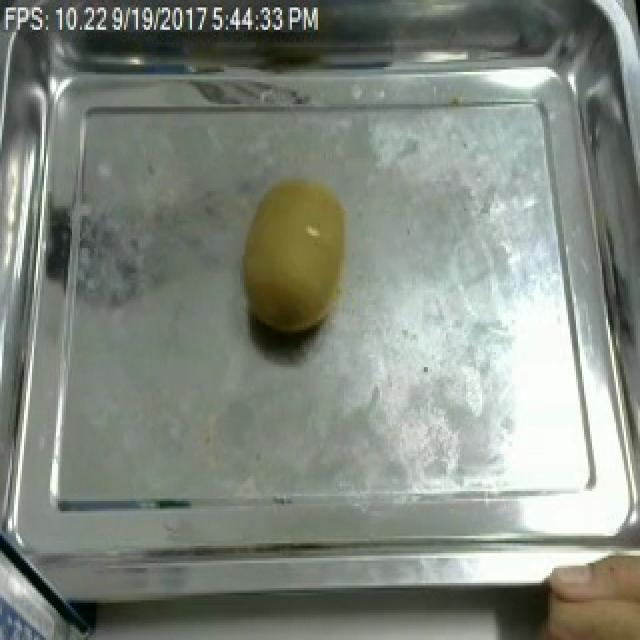Fruit: (236, 168, 360, 344)
